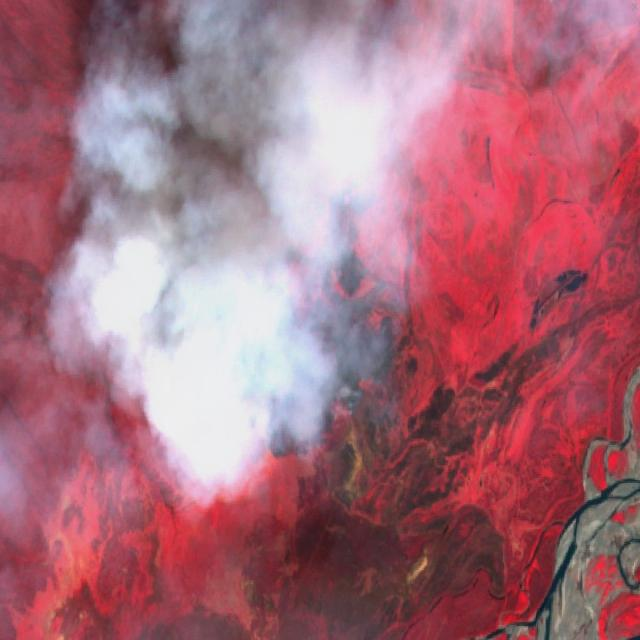fire: (167, 206, 407, 474)
